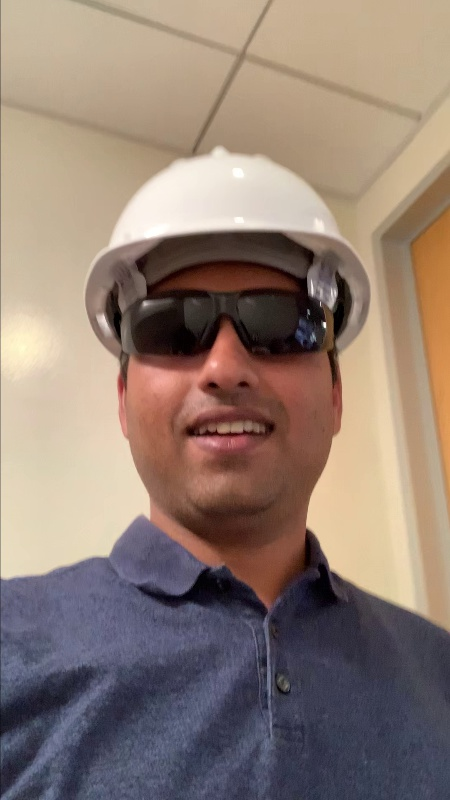glasses: (111, 289, 351, 367)
helmet: (55, 143, 378, 308)
